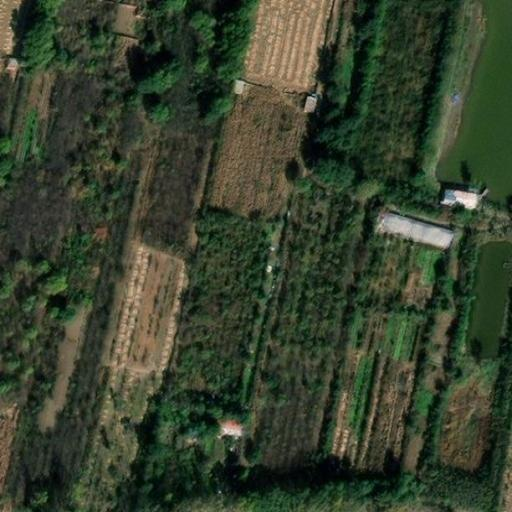building: (378, 209, 455, 250), (440, 187, 478, 207), (301, 90, 321, 113)
